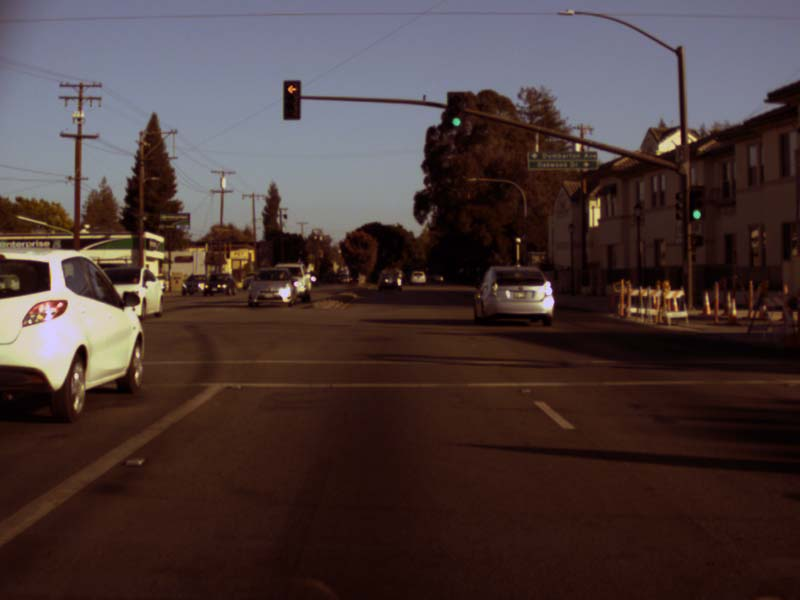Green: (446, 90, 466, 130), (688, 183, 707, 221)
Red: (281, 79, 300, 120)
